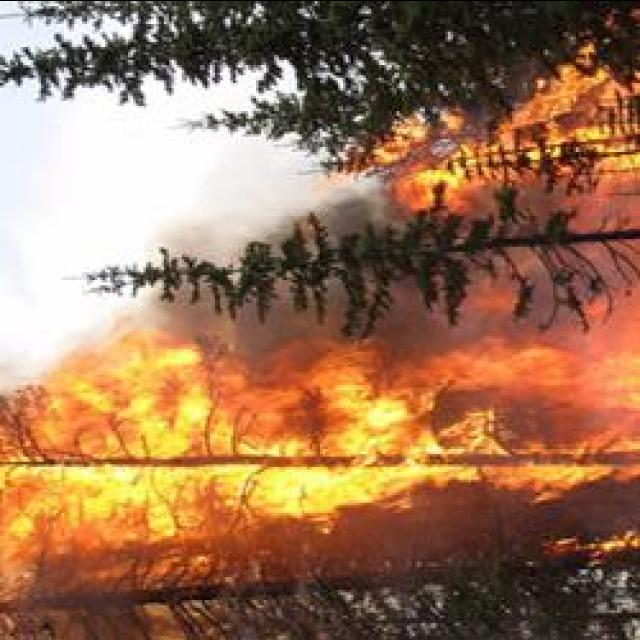fire: (0, 435, 420, 540), (358, 409, 640, 511), (92, 352, 194, 420), (479, 350, 557, 390), (556, 76, 589, 106)
smoke: (239, 314, 319, 360), (143, 300, 215, 340), (328, 188, 376, 233)
